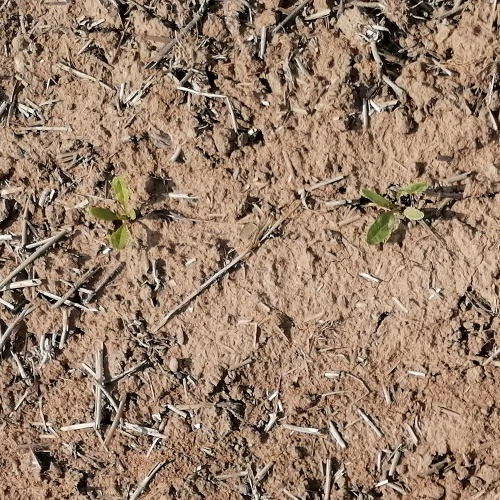beet: (362, 182, 426, 247), (91, 179, 137, 251)
